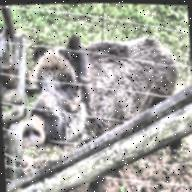boar: (20, 22, 188, 158)
